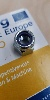Nut: (12, 29, 36, 55)
